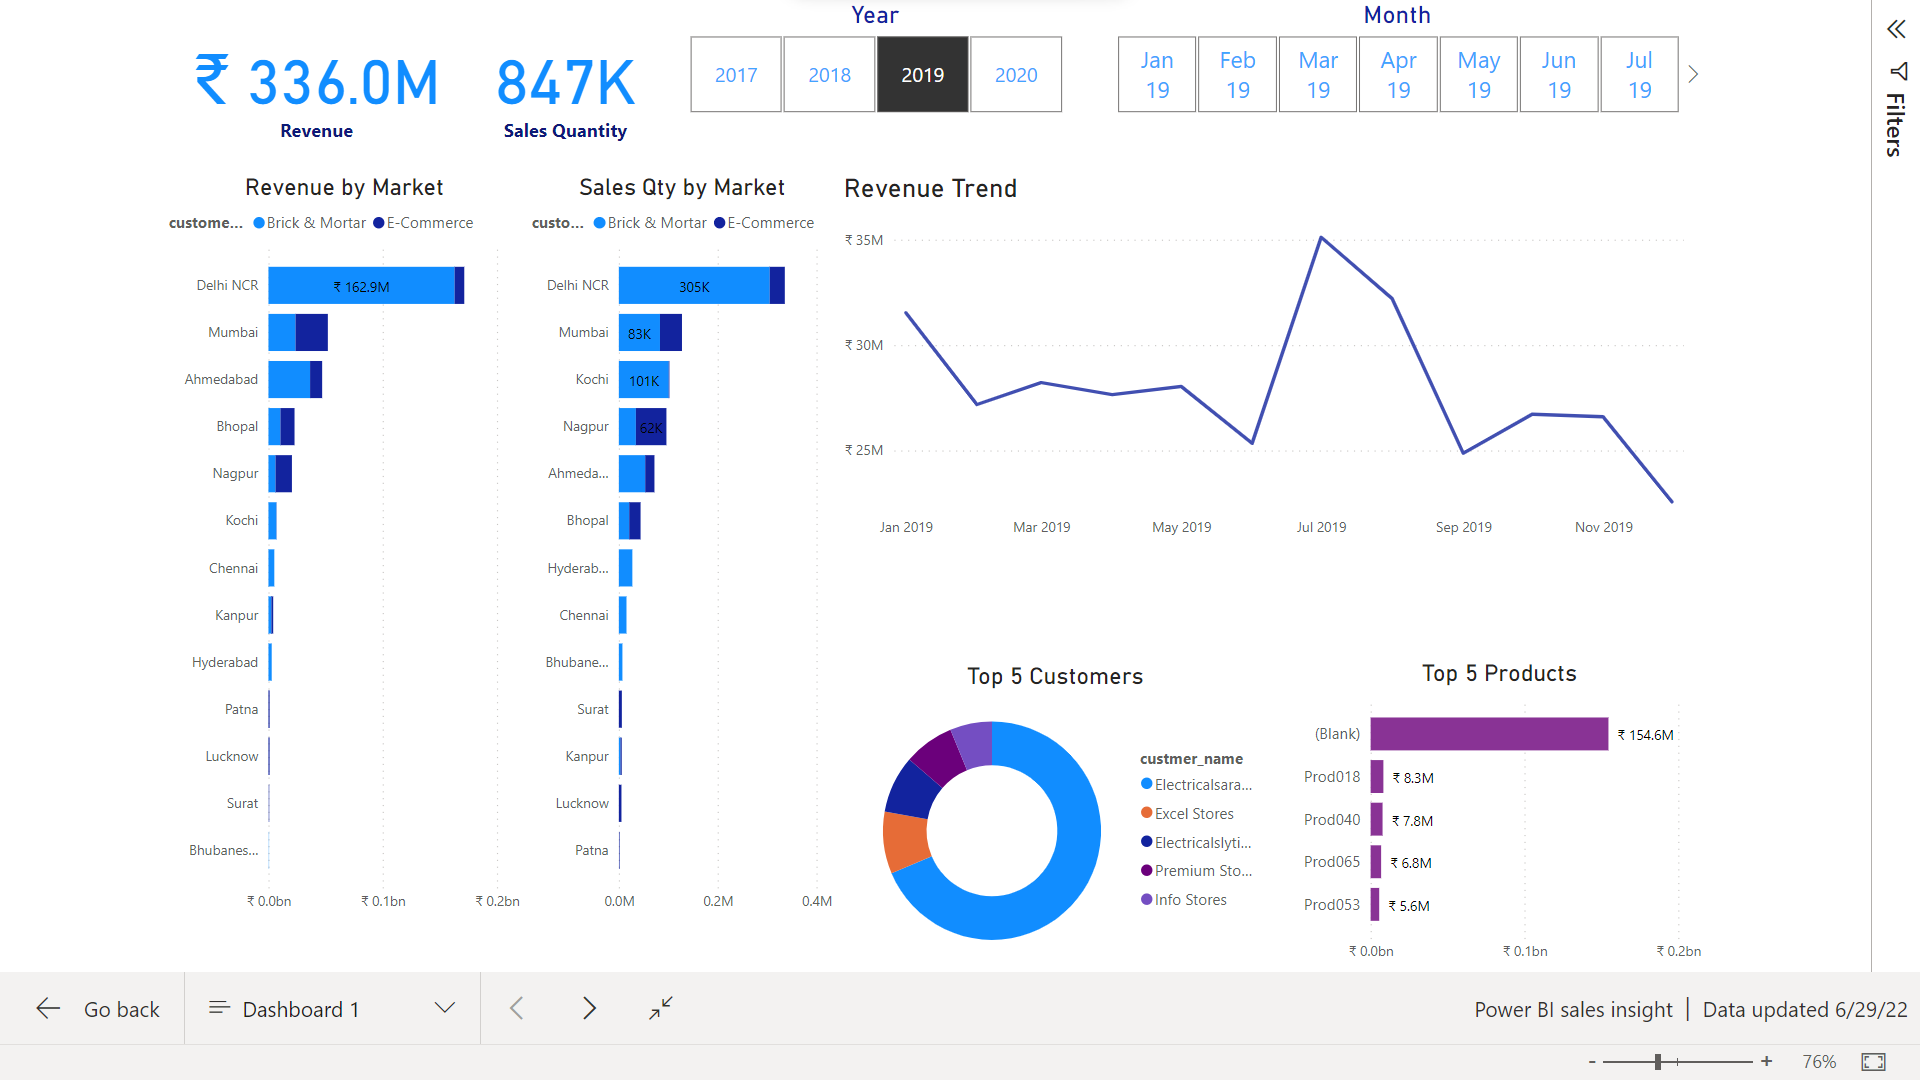

What the dashboard file says about the page in this screenshot:
{"tool":"powerbi","page":{"name":"Dashboard 1","canvas":[1350,850],"ordinal":0},"visuals":[{"type":"card","fields":{"Values":["Base Measures.Revenue"]},"box":[0,0,268,150],"z":0},{"type":"card","fields":{"Values":["Base Measures.sales quantity"]},"box":[268,0,168,150],"z":1000},{"type":"barChart","title":"Revenue by Market","fields":{"Y":["Base Measures.Revenue"],"Category":["sales markets.markets_name"],"Series":["sales customers.customer_type"]},"box":[0,150.9,317.1,655.2],"z":2000},{"type":"barChart","title":"Sales Qty by Market","fields":{"Y":["Base Measures.sales quantity"],"Category":["sales markets.markets_name"],"Series":["sales customers.customer_type"]},"box":[317.1,150.9,273.1,655.2],"z":3000},{"type":"slicer","title":"Year","fields":{"Values":["sales date.year"]},"box":[435.5,0,374.4,105.1],"z":4000},{"type":"slicer","title":"Month","fields":{"Values":["sales date.cy_date"]},"box":[809.9,0,540,105.1],"z":5000},{"type":"donutChart","title":"Top 5 Customers","fields":{"Category":["sales customers.custmer_name"],"Y":["Base Measures.Revenue"],"Series":["sales customers.customer_type"]},"box":[590,578,380,272],"z":6000},{"type":"barChart","title":"Top 5 Products","fields":{"Y":["Base Measures.Revenue"],"Category":["sales products.product_code"]},"box":[988,576,362,274],"z":7000},{"type":"lineChart","title":"Revenue Trend","fields":{"Y":["Base Measures.Revenue"],"Category":["sales date.cy_date"]},"box":[590.2,150.9,760.2,328.5],"z":8000}]}

Visuals, with their boxes on the page's 1350x850 design canvas (x1, y1, x2, y2). These are canvas units, not pixel positions in the 1920x1080 screenshot, which may show the page scaled, cropped or inside an application window:
card - Base Measures.Revenue: [left=0, top=0, right=268, bottom=150]
card - Base Measures.sales quantity: [left=268, top=0, right=436, bottom=150]
"Revenue by Market" barChart: [left=0, top=151, right=317, bottom=806]
"Sales Qty by Market" barChart: [left=317, top=151, right=590, bottom=806]
"Year" slicer: [left=436, top=0, right=810, bottom=105]
"Month" slicer: [left=810, top=0, right=1350, bottom=105]
"Top 5 Customers" donutChart: [left=590, top=578, right=970, bottom=850]
"Top 5 Products" barChart: [left=988, top=576, right=1350, bottom=850]
"Revenue Trend" lineChart: [left=590, top=151, right=1350, bottom=479]
